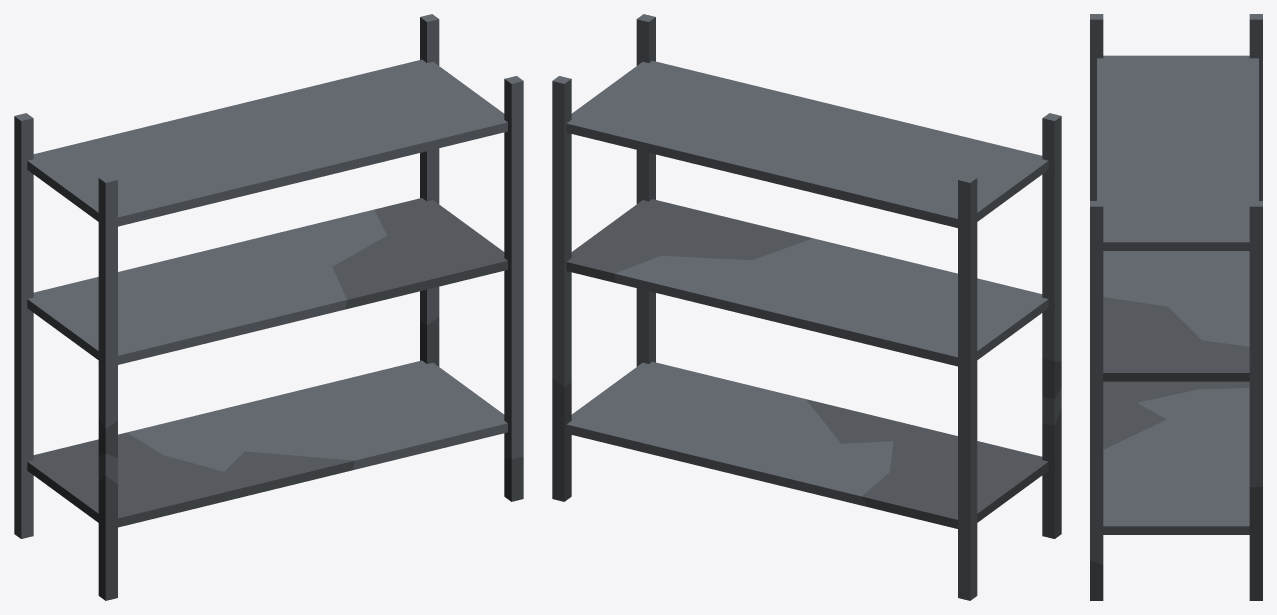
File: AI_Prop_Shelf_02.fbx
3 views of the same model, side by side, from view 1: azimuth 30°, elevation 25°; view 2: azimuth 150°, elevation 25°; view 3: azimuth 270°, elevation 25° (orthographic). The views are drawn at different scales.
Visible parts, largest first — view 1: AI_Prop_Shelf_02; view 2: AI_Prop_Shelf_02; view 3: AI_Prop_Shelf_02.
Boxes of the visible parts, x1,y1,x2,y2 form: AI_Prop_Shelf_02: (14, 14, 523, 600); AI_Prop_Shelf_02: (552, 14, 1061, 600); AI_Prop_Shelf_02: (1090, 14, 1262, 600).
Size of the model in its own units: 3.27 by 3.12 by 1.24.
